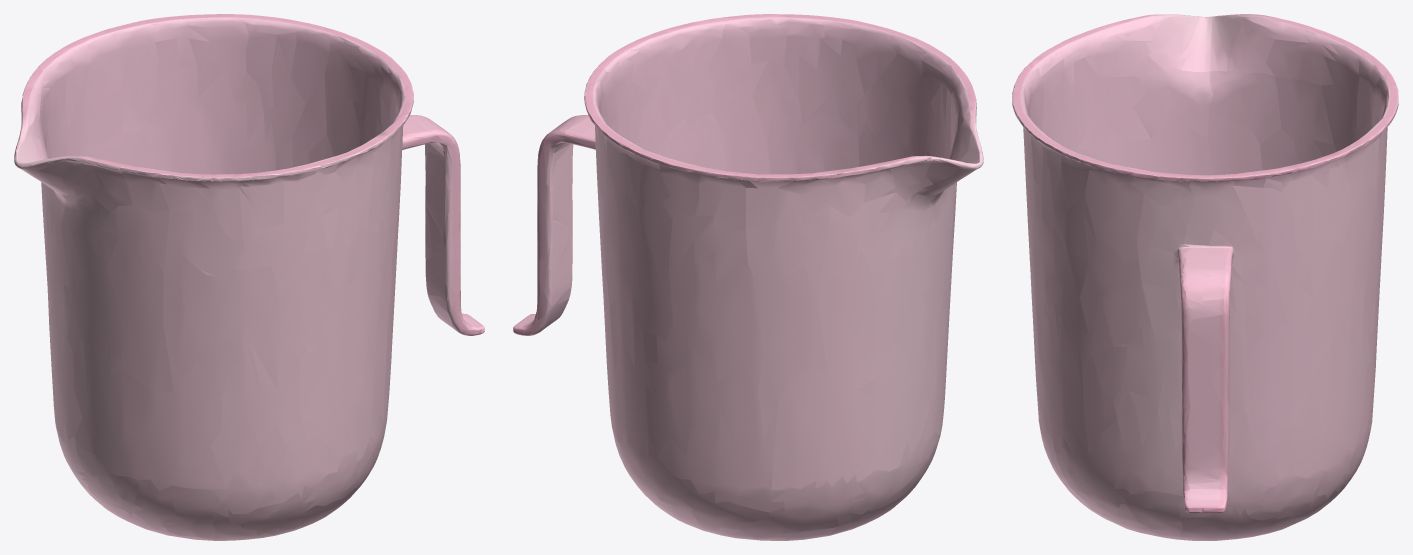
The model's file is Meshy_AI_Plastic_Mug_Remesh_0924171219_texture.glb.
The picture shows the model from 3 angles, left to right: view 1: azimuth 30°, elevation 25°; view 2: azimuth 150°, elevation 25°; view 3: azimuth 270°, elevation 25°; orthographic projection.
Visible parts, largest first — view 1: output_unwrapped; view 2: output_unwrapped; view 3: output_unwrapped.
Part boxes in pixels (<box>): output_unwrapped: <box>14,14,484,540</box>; output_unwrapped: <box>513,14,983,540</box>; output_unwrapped: <box>1012,14,1398,540</box>.
Size of the model in its own units: 1.9 by 1.59 by 1.39.
Materials: 1 (1 with a texture image).
